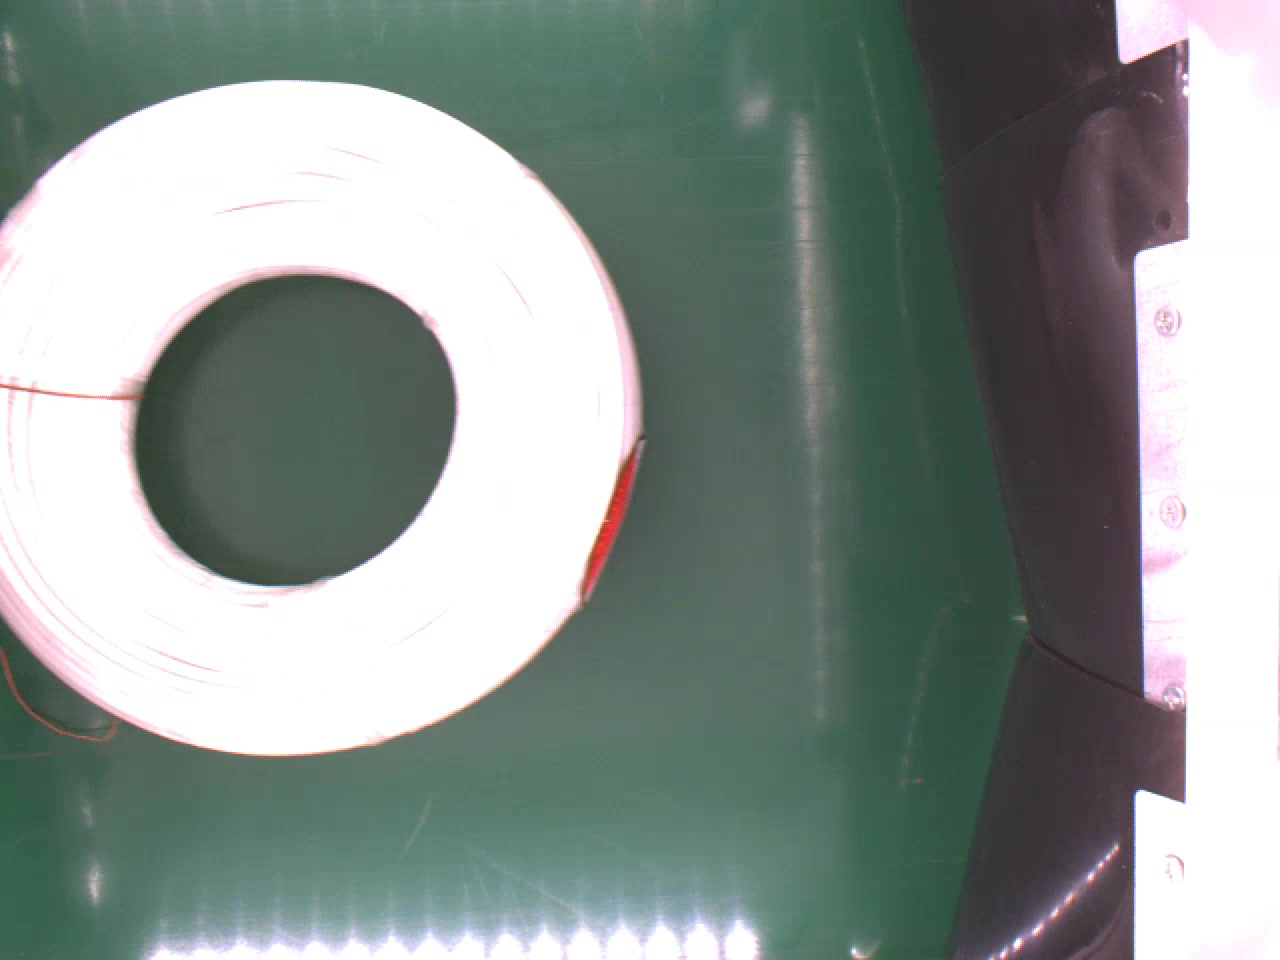white: (0, 80, 643, 751)
